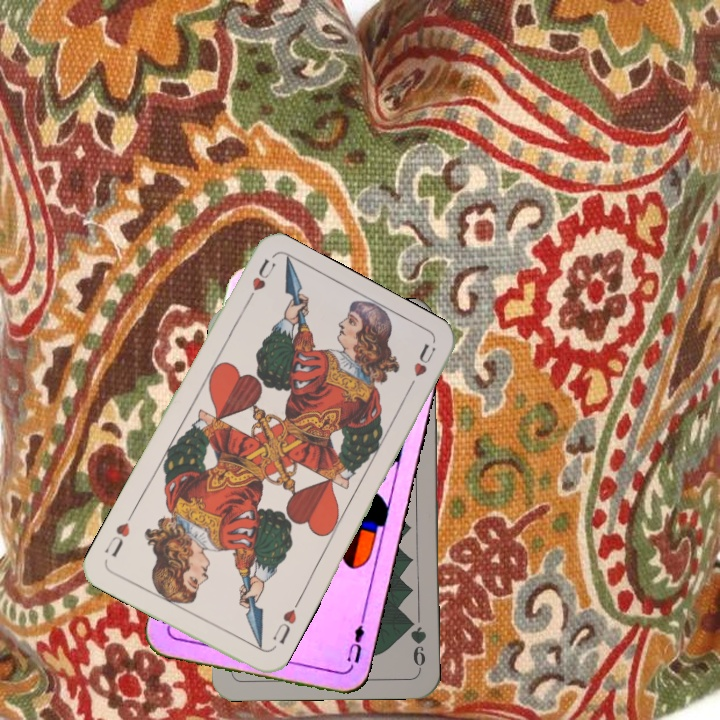EU: (343, 621, 367, 666)
G9: (404, 613, 429, 672)
HU: (241, 254, 278, 309), (269, 598, 301, 647)
